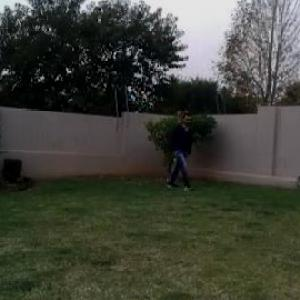follow: (168, 107, 192, 192)
